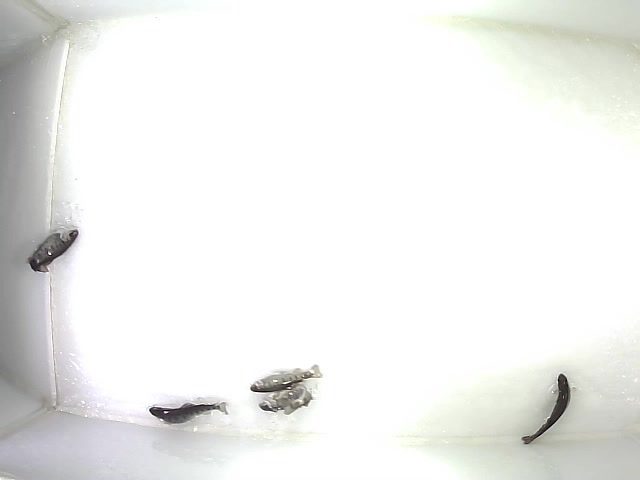fish: (520, 371, 577, 446), (25, 227, 79, 274), (249, 362, 323, 393), (147, 400, 230, 426), (257, 383, 315, 416)
